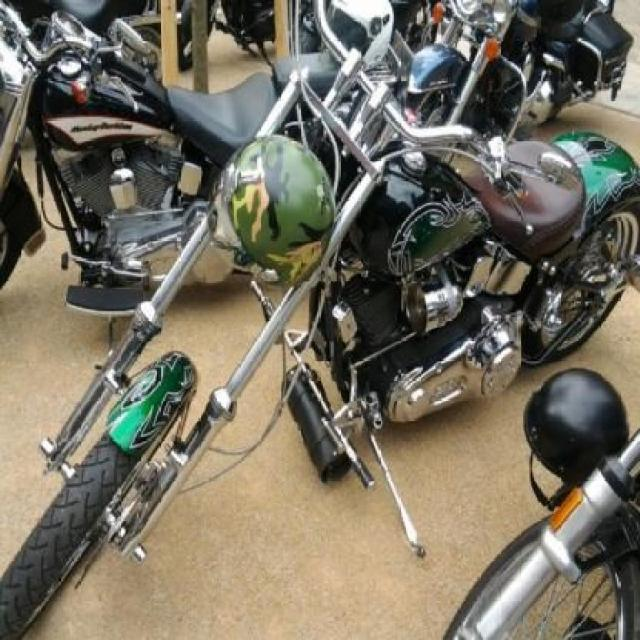Cycle: (0, 0, 638, 640), (0, 0, 365, 348)
